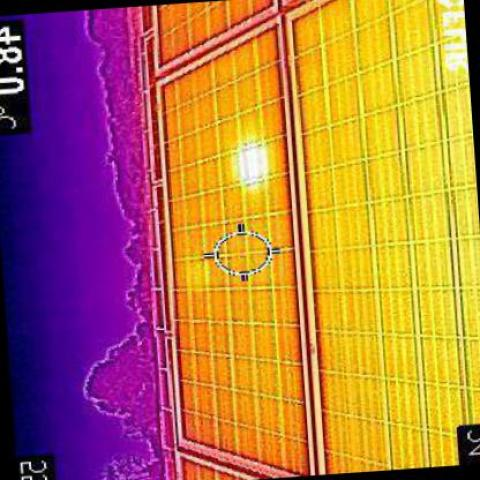fault: (237, 141, 268, 180)
